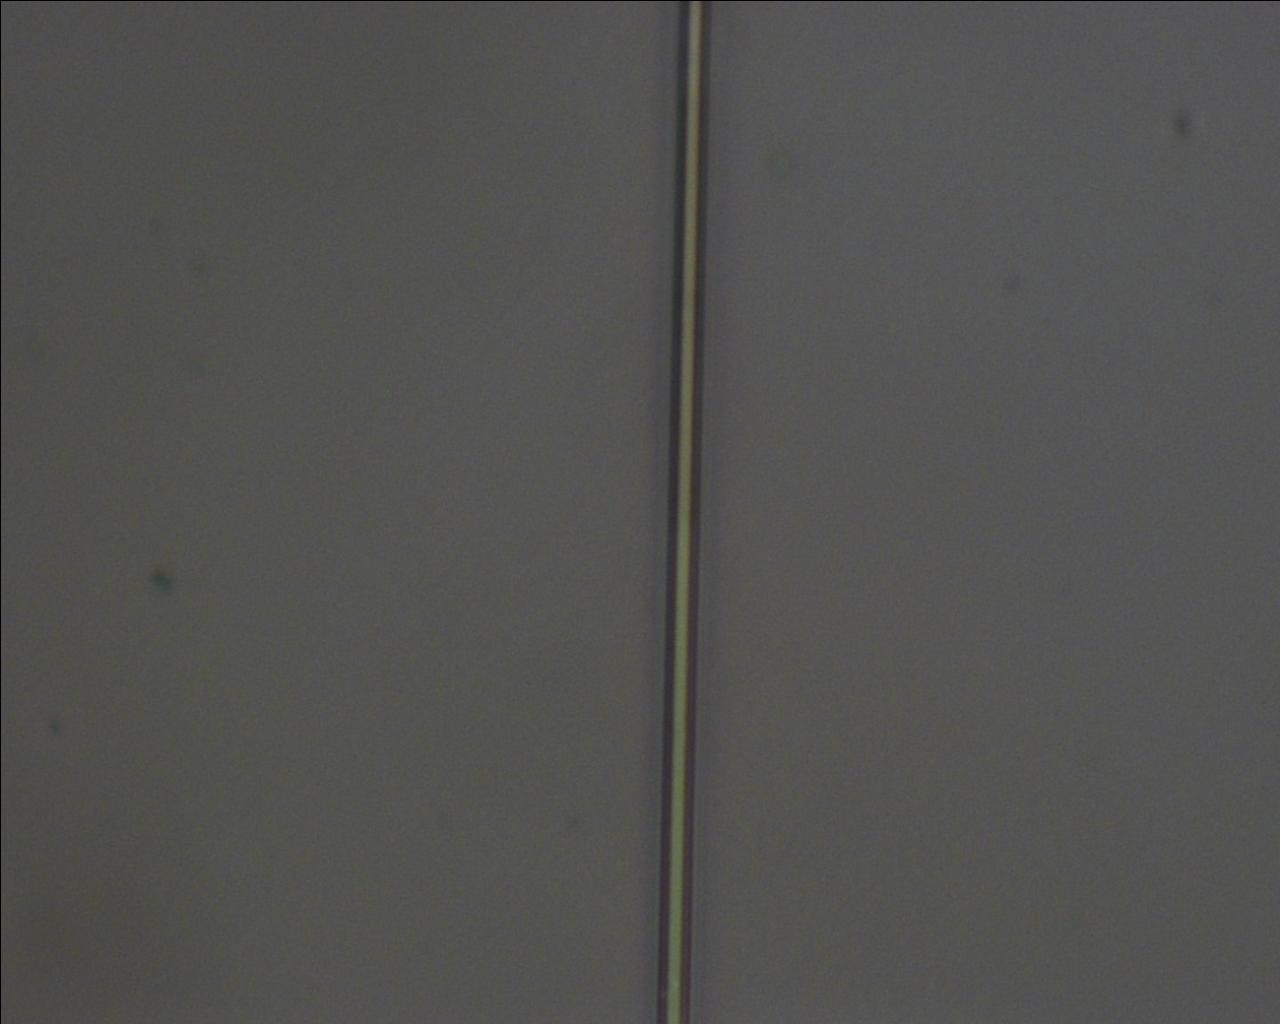fiber: (190, 0, 486, 512), (259, 512, 394, 1024), (604, 512, 738, 1024), (939, 0, 1013, 512)
